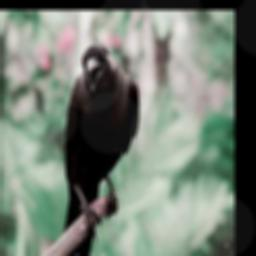Crow: (62, 41, 139, 254)
